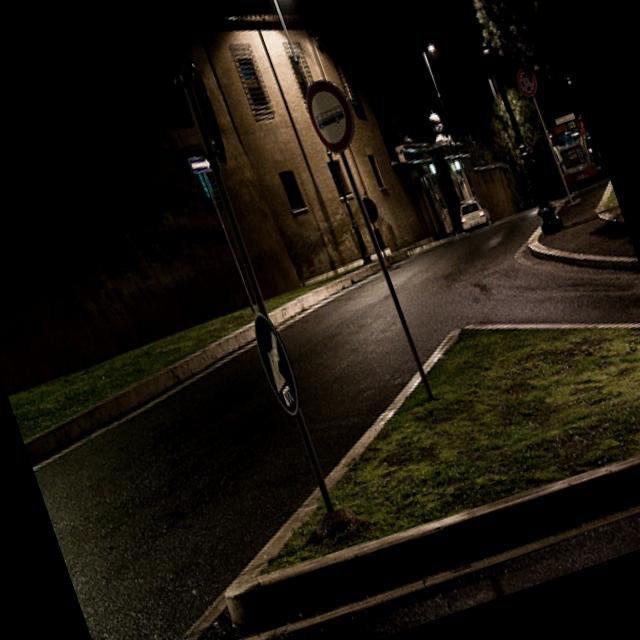Vehicle: (456, 198, 490, 235)
